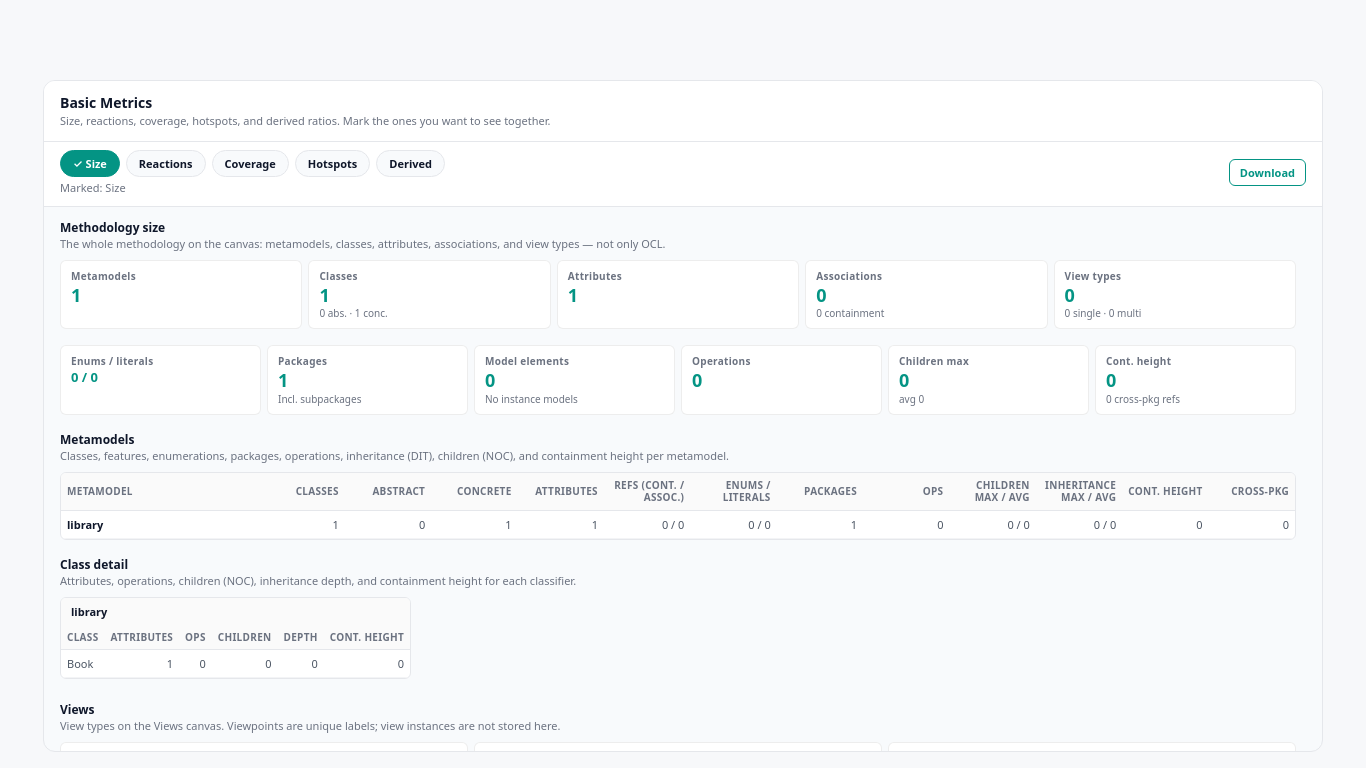
CanvasMetricsOverlay › loads reaction file text from the existing file API when the edge has no code
The width and height of the screenshot is (1366, 768).
Click the button with test id "metrics-tab-reactions" at [166, 163], box [126,150,206,177]
(page scrolled)
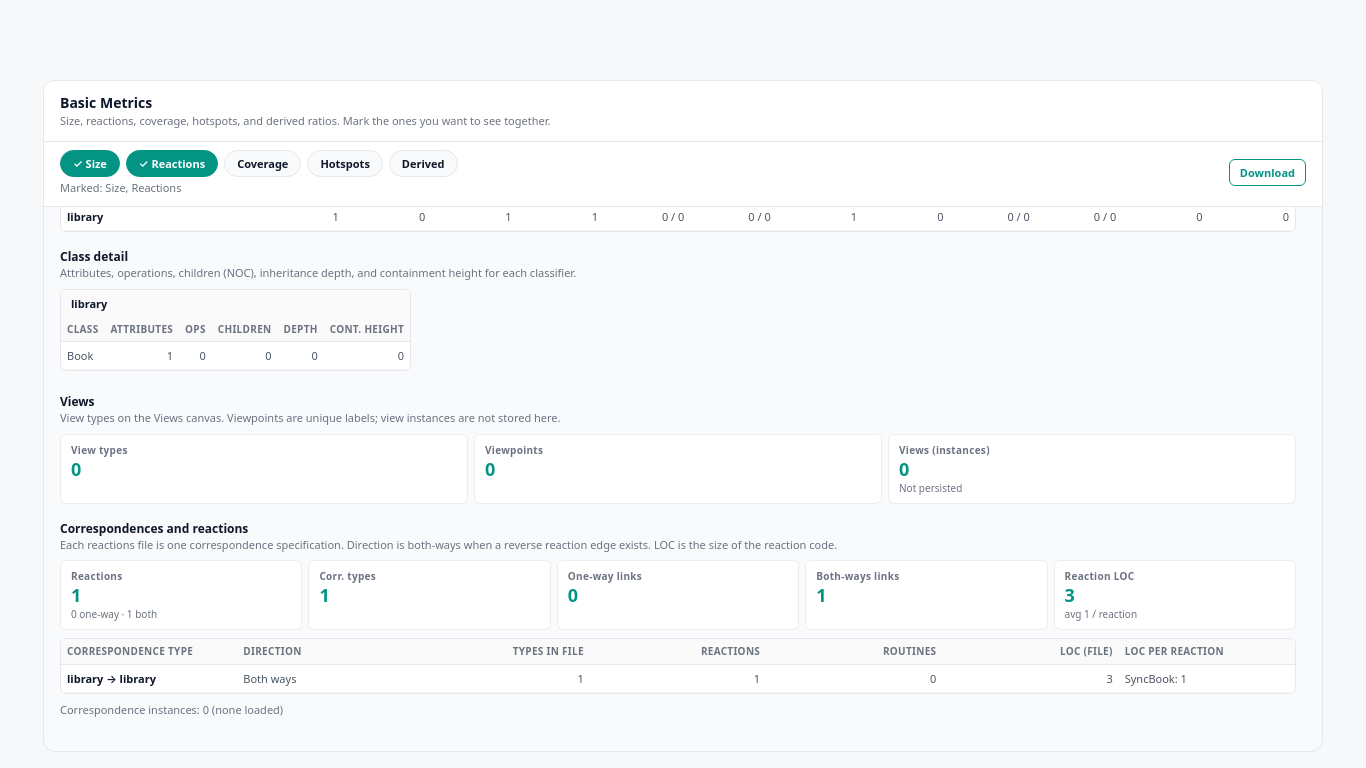
Result: the text "SyncBook: 1" is shown at [1119,664,1295,692]
